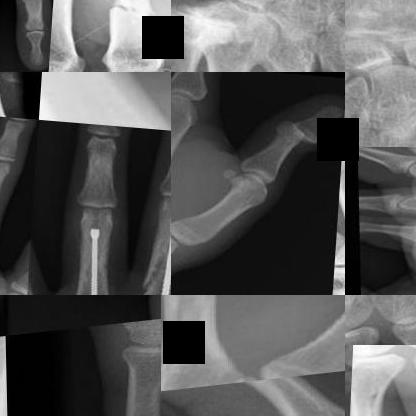fracture: (171, 0, 240, 58), (74, 210, 118, 294), (141, 200, 171, 294), (276, 112, 328, 146), (106, 0, 171, 25), (352, 385, 391, 415), (28, 241, 49, 294), (141, 343, 160, 386)
